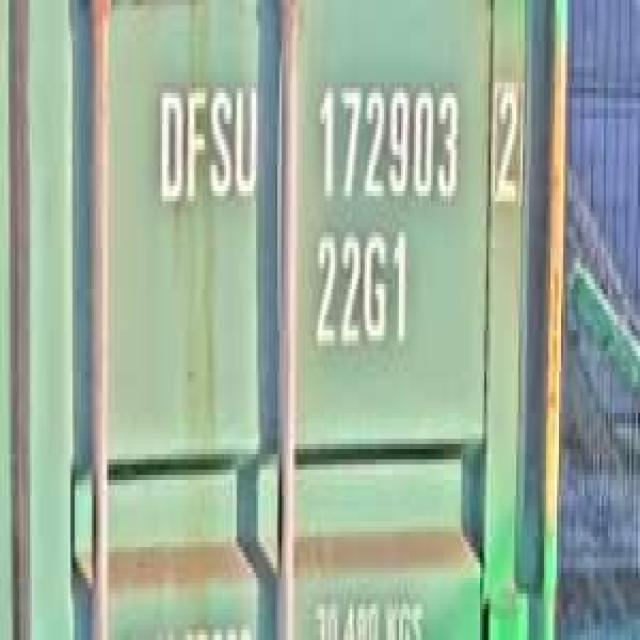dv: (485, 68, 529, 216)
owner: (152, 67, 258, 212)
serial: (309, 67, 463, 212)
size: (307, 217, 412, 361)
